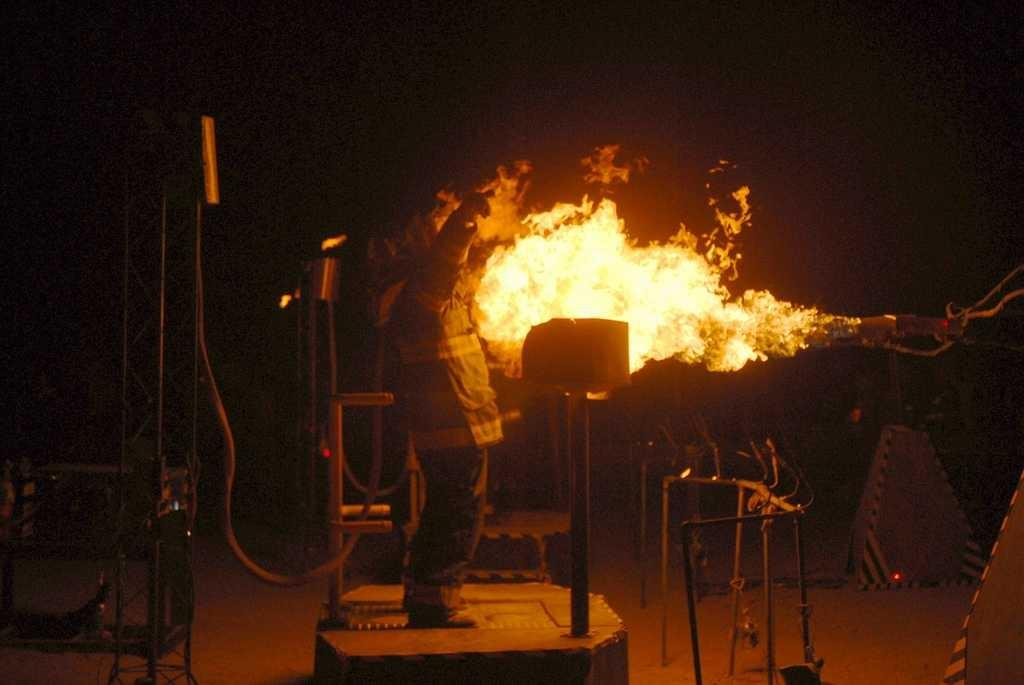fire: (505, 255, 642, 318), (657, 262, 713, 343)
